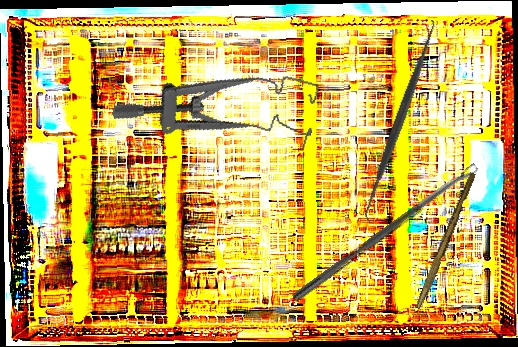Scalpel Handle: (415, 171, 477, 311)
Spatula Surgical: (352, 17, 448, 225)
Speculum: (110, 36, 324, 169)
Surgical Spoon: (291, 162, 480, 304)
